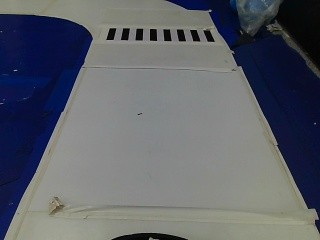crosswalk: (97, 26, 221, 45)
